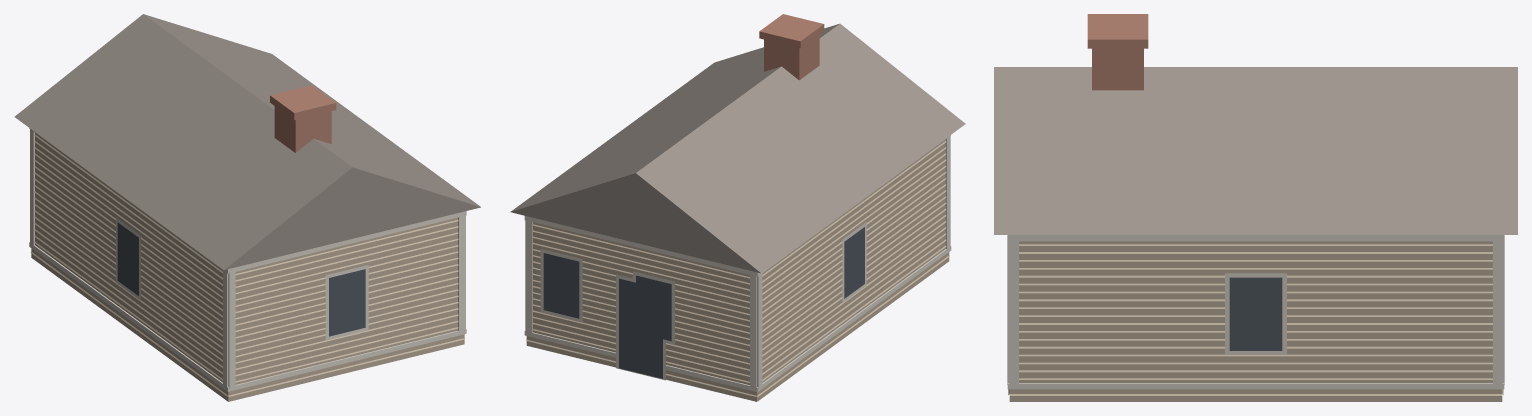
The model's file is inf_butcher_market__inferred_1835.glb.
3 renders of one model, left to right at view 1: azimuth 30°, elevation 25°; view 2: azimuth 150°, elevation 25°; view 3: azimuth 270°, elevation 25°, orthographic. The views are drawn at different scales.
Parts seen in each view (by area): view 1: inf_butcher_market__inferred_1835; view 2: inf_butcher_market__inferred_1835; view 3: inf_butcher_market__inferred_1835.
Part boxes in pixels (<box>): inf_butcher_market__inferred_1835: <box>14,14,480,401</box>; inf_butcher_market__inferred_1835: <box>510,14,965,401</box>; inf_butcher_market__inferred_1835: <box>994,14,1517,401</box>.
Size of the model in its own units: 5.99 by 5.38 by 8.43.
